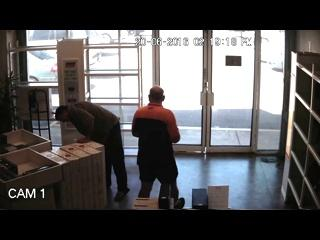Normal: (54, 101, 130, 202), (131, 85, 184, 209)
